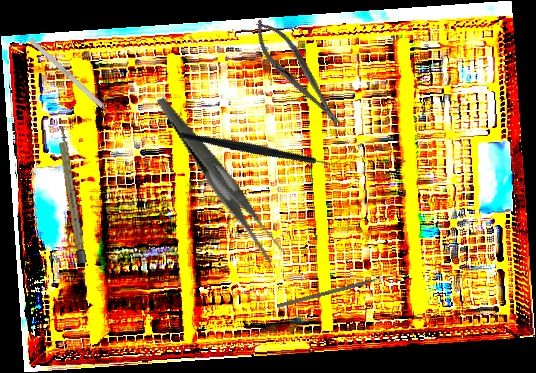Chopper: (178, 77, 346, 217)
Dressing Forceps: (155, 76, 288, 281)
Hook Surgical: (28, 37, 121, 124)
Needle Holder: (244, 11, 352, 137)
Pusher: (276, 271, 400, 309)
Scalpel Handle: (56, 125, 87, 264)
